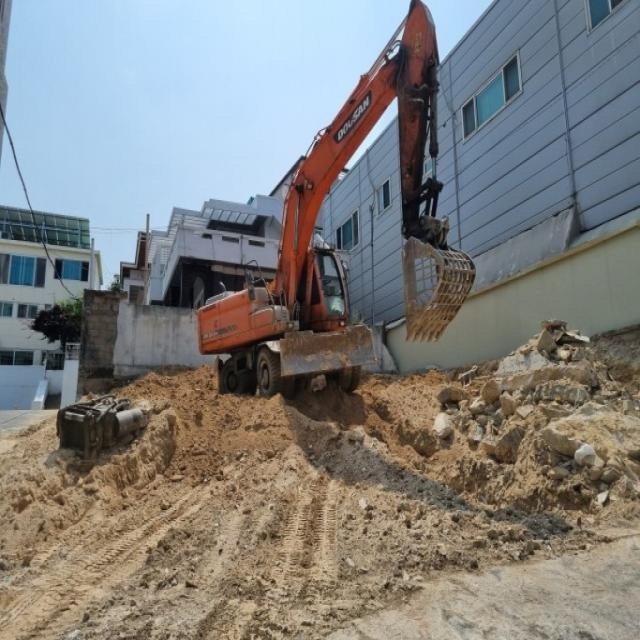excavator: (198, 0, 475, 399)
